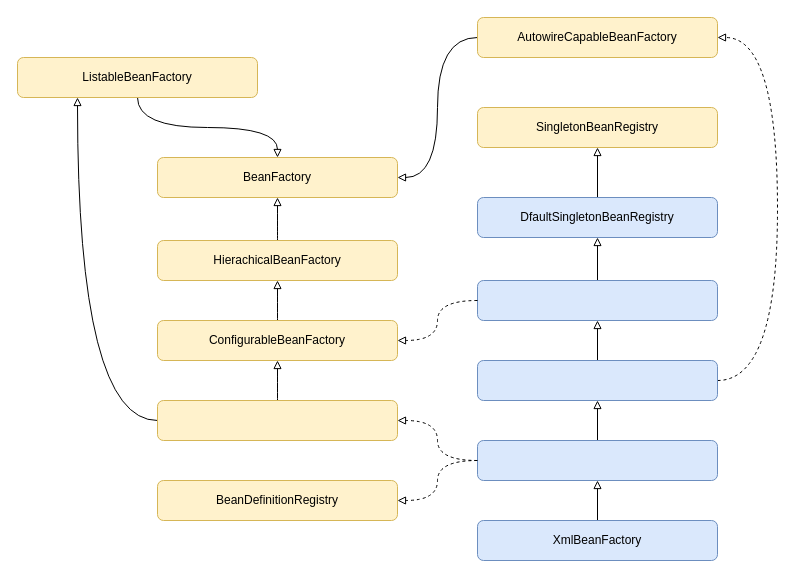
This 795x578 diagram has some shape labels left out. Here are the shapes that lost their labels. From the top down, the centre of each, then its label:
At point (597, 300): "AbstractBeanFactory".
At point (597, 380): "AbstractAutowireCapaleBeanFactory".
At point (277, 420): "ConfigurableListableBeanFactory".
At point (597, 460): "DefaultListableBeanFactory".
